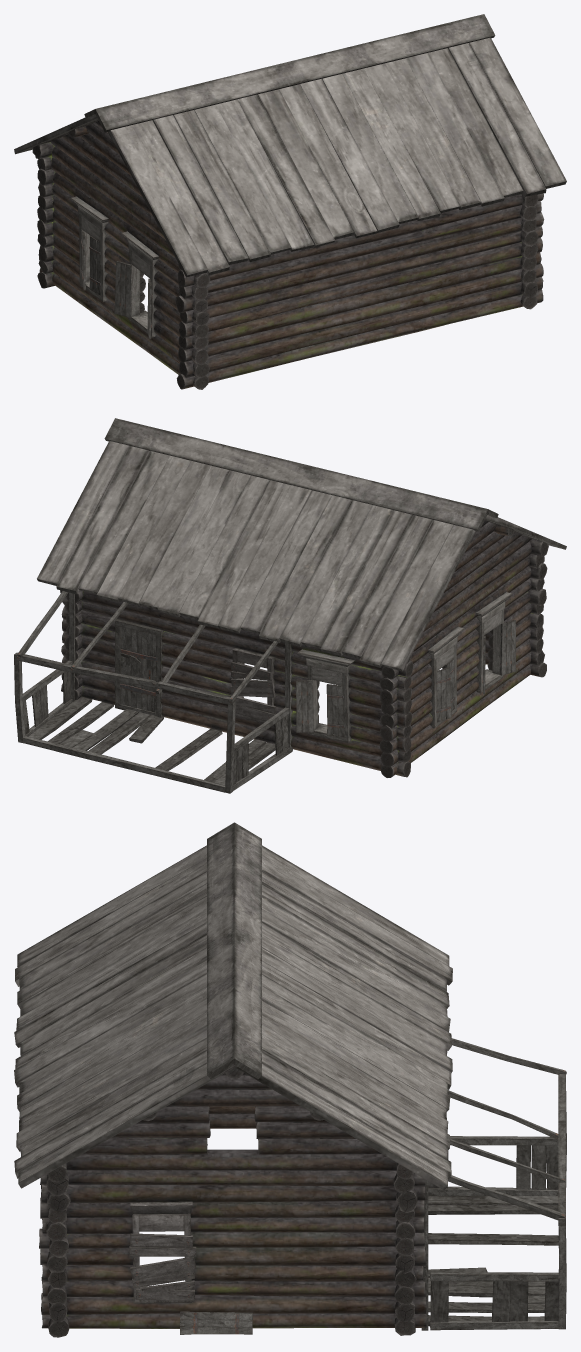
File: House_rus.fbx
3 renders of one model, top to bottom at view 1: azimuth 30°, elevation 25°; view 2: azimuth 150°, elevation 25°; view 3: azimuth 270°, elevation 25°, orthographic. The views are drawn at different scales.
Visible parts, largest first — view 1: Cube.004, Cylinder.034, Cube.002, Cube.001, Cube, Cube.007; view 2: Cube.004, Cylinder.034, Cube.019, Cube.020, Cube.014, Cube.016, Cube.003, Cube.002, Cube.015, Cube.001, Cube.011, Cube.013 (+2 smaller); view 3: Cube.004, Cylinder.034, Cube.019, Cube.008, Cube.020, Cube.010.
Boxes of the visible parts, x1=… form: Cube.004: x1=14, y1=14, x2=566, y2=277; Cylinder.034: x1=32, y1=121, x2=544, y2=389; Cube.002: x1=121, y1=231, x2=158, y2=337; Cube.001: x1=70, y1=196, x2=108, y2=301; Cube: x1=114, y1=260, x2=132, y2=317; Cube.007: x1=89, y1=236, x2=100, y2=295; Cube.004: x1=37, y1=418, x2=566, y2=671; Cylinder.034: x1=60, y1=520, x2=548, y2=777; Cube.019: x1=14, y1=591, x2=292, y2=793; Cube.020: x1=28, y1=696, x2=275, y2=785; Cube.014: x1=230, y1=648, x2=276, y2=722; Cube.016: x1=120, y1=627, x2=157, y2=712; Cube.003: x1=298, y1=649, x2=355, y2=742; Cube.002: x1=476, y1=592, x2=512, y2=692; Cube.015: x1=115, y1=619, x2=163, y2=717; Cube.001: x1=428, y1=626, x2=464, y2=728; Cube.011: x1=296, y1=680, x2=314, y2=732; Cube.013: x1=326, y1=684, x2=344, y2=737; Cube.004: x1=14, y1=822, x2=452, y2=1189; Cylinder.034: x1=39, y1=1073, x2=426, y2=1337; Cube.019: x1=421, y1=1038, x2=566, y2=1330; Cube.008: x1=129, y1=1201, x2=196, y2=1303; Cube.020: x1=428, y1=1196, x2=558, y2=1326; Cube.010: x1=180, y1=1311, x2=252, y2=1334.
Bounding box in the file's own units: 877 × 504 × 867.
